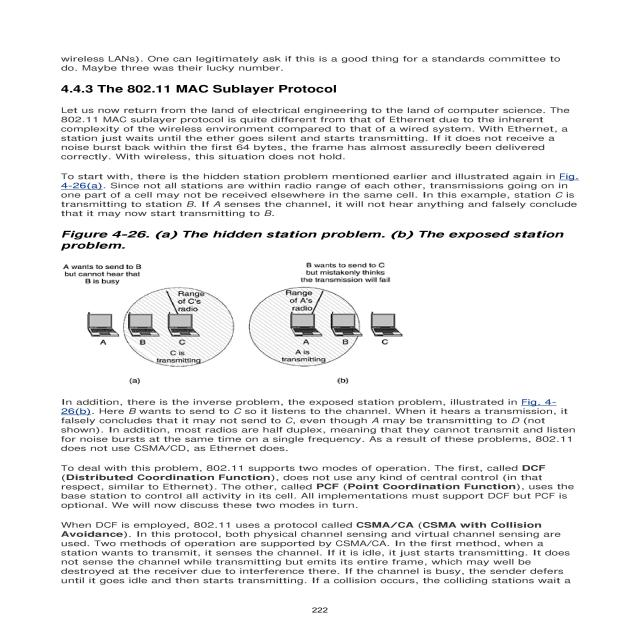diagram: (0, 219, 605, 395)
